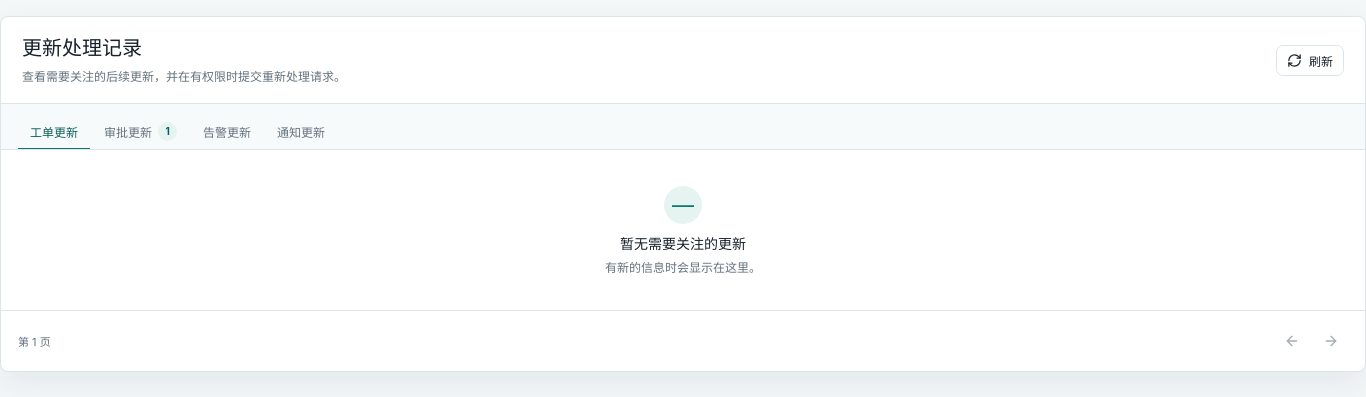
Test: RecoveryPanel › loads all four owner routes independently
What coordinates should you click on to do the following:
click the tab "告警更新"
I would click on:
 (227, 132)
Its box is x1=191 y1=114 x2=263 y2=150.
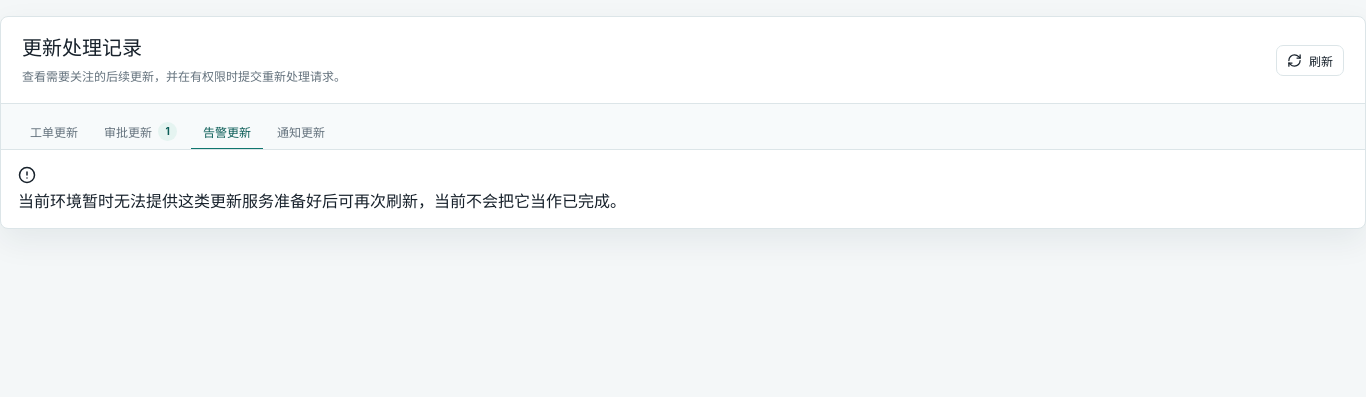
Expected: the text "当前环境暂时无法提供这类更新" is shown, x1=18 y1=191 x2=242 y2=211
What coordinates should you click on to do the following:
click the tab "审批更新 1"
I would click on:
 (140, 132)
Its box is x1=92 y1=114 x2=189 y2=150.
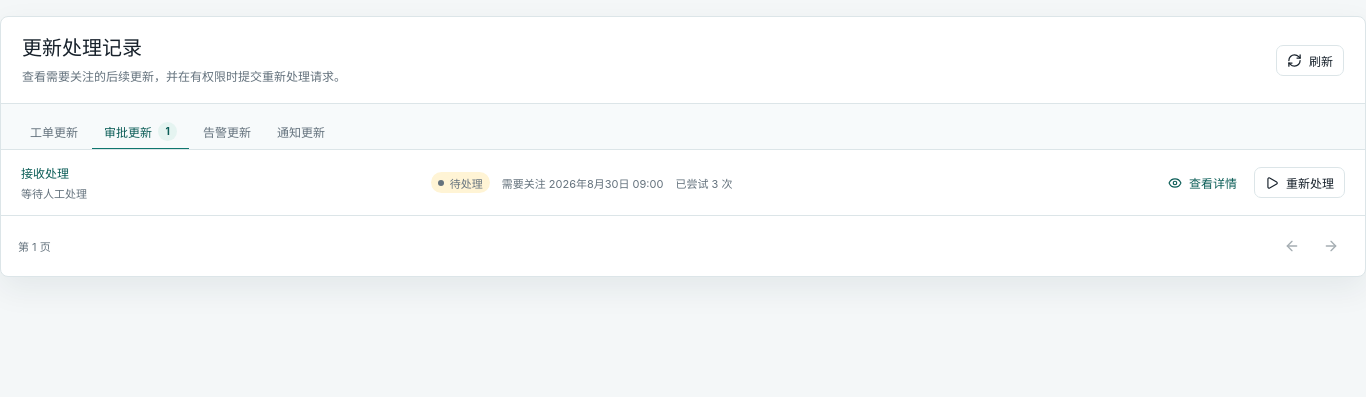
Expected: the text "接收处理" is shown, x1=21 y1=166 x2=69 y2=181
